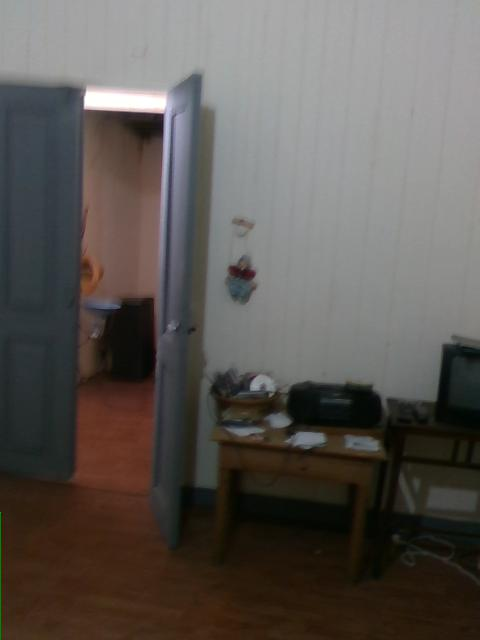door: (1, 84, 82, 484), (154, 70, 200, 552)
